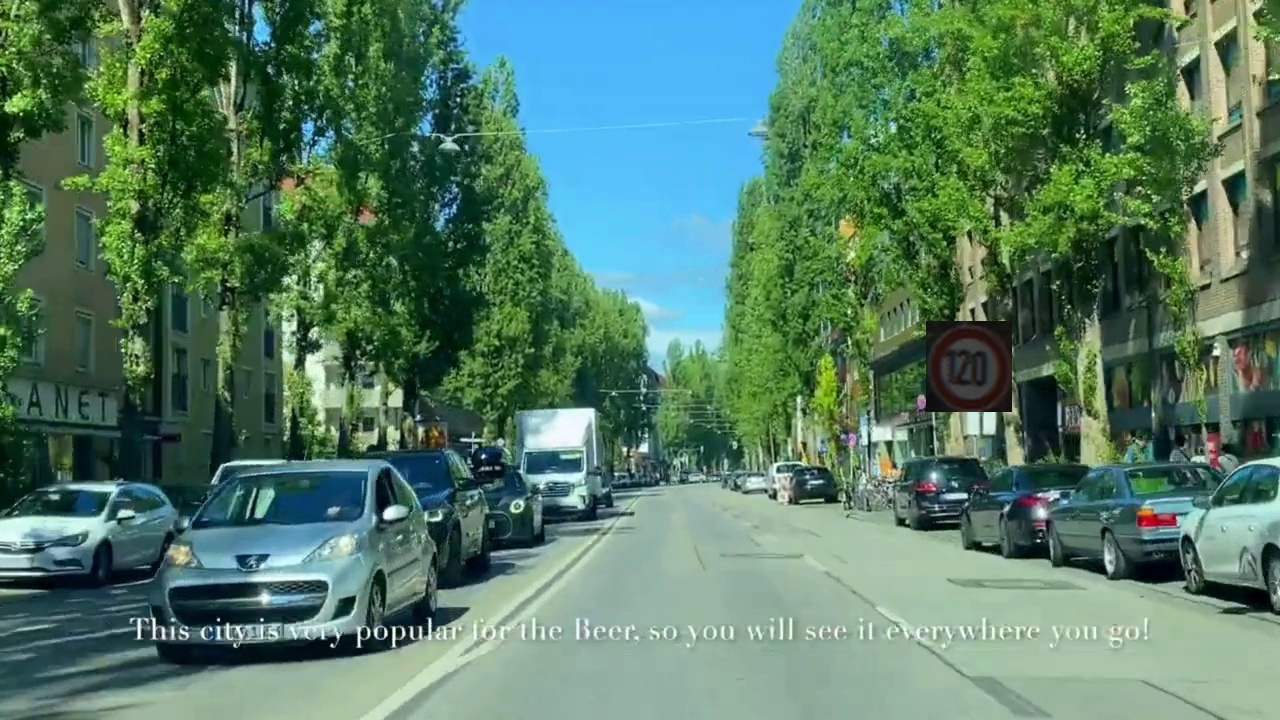Speed 120: (926, 321, 1012, 412)
